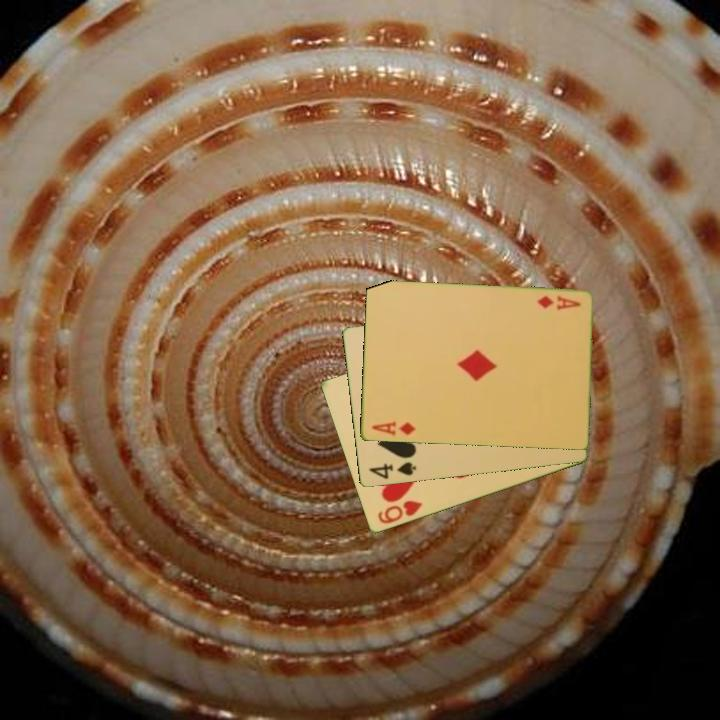4s: (365, 459, 419, 482)
6h: (374, 497, 425, 527)
Ad: (368, 418, 418, 439), (534, 292, 583, 313)
